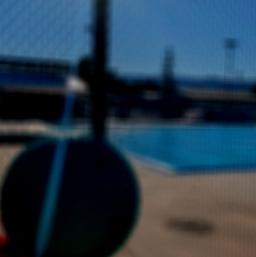algae: (0, 135, 142, 257)
